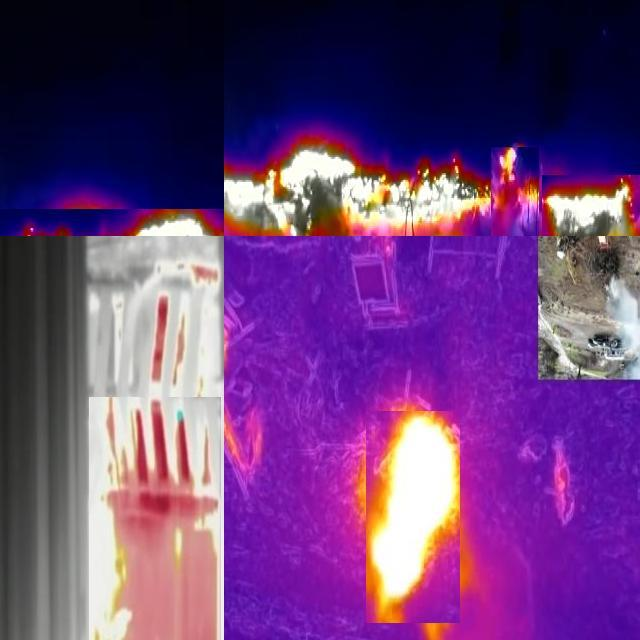fire: (89, 397, 221, 640), (225, 143, 491, 237), (366, 411, 460, 623), (542, 175, 640, 237), (491, 146, 539, 237)
